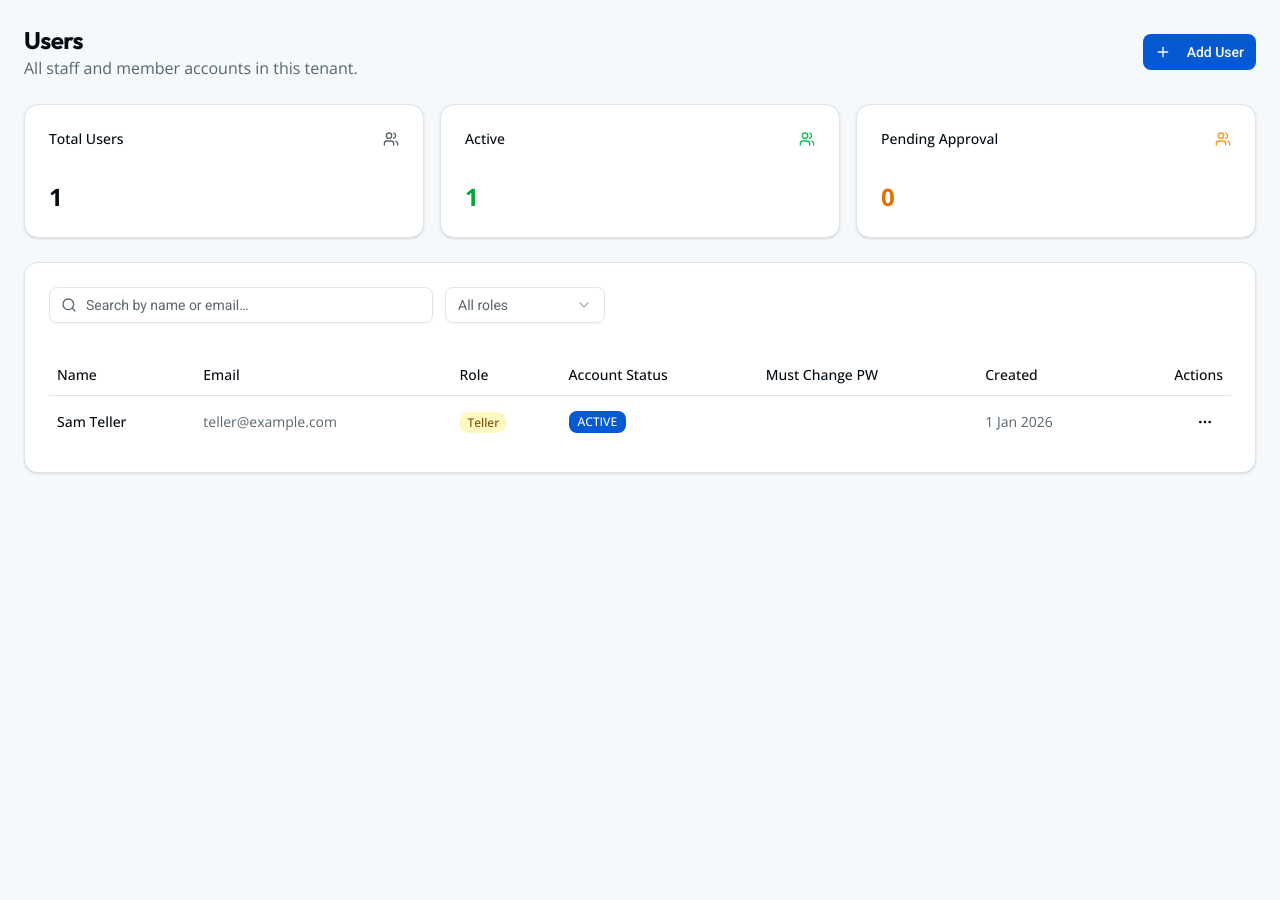
Test: Users page — Reveal Temp Password gating and flow › fetches and displays the temporary password, masked by default, after confirming
The width and height of the screenshot is (1280, 900).
expect the text "Sam Teller" is shown: met, box left=49, top=395, right=195, bottom=448
Press the mouse on the 2nd button at (1205, 422), box left=1187, top=404, right=1223, bottom=440
Click the 2nd button at (1205, 422), box left=1187, top=404, right=1223, bottom=440
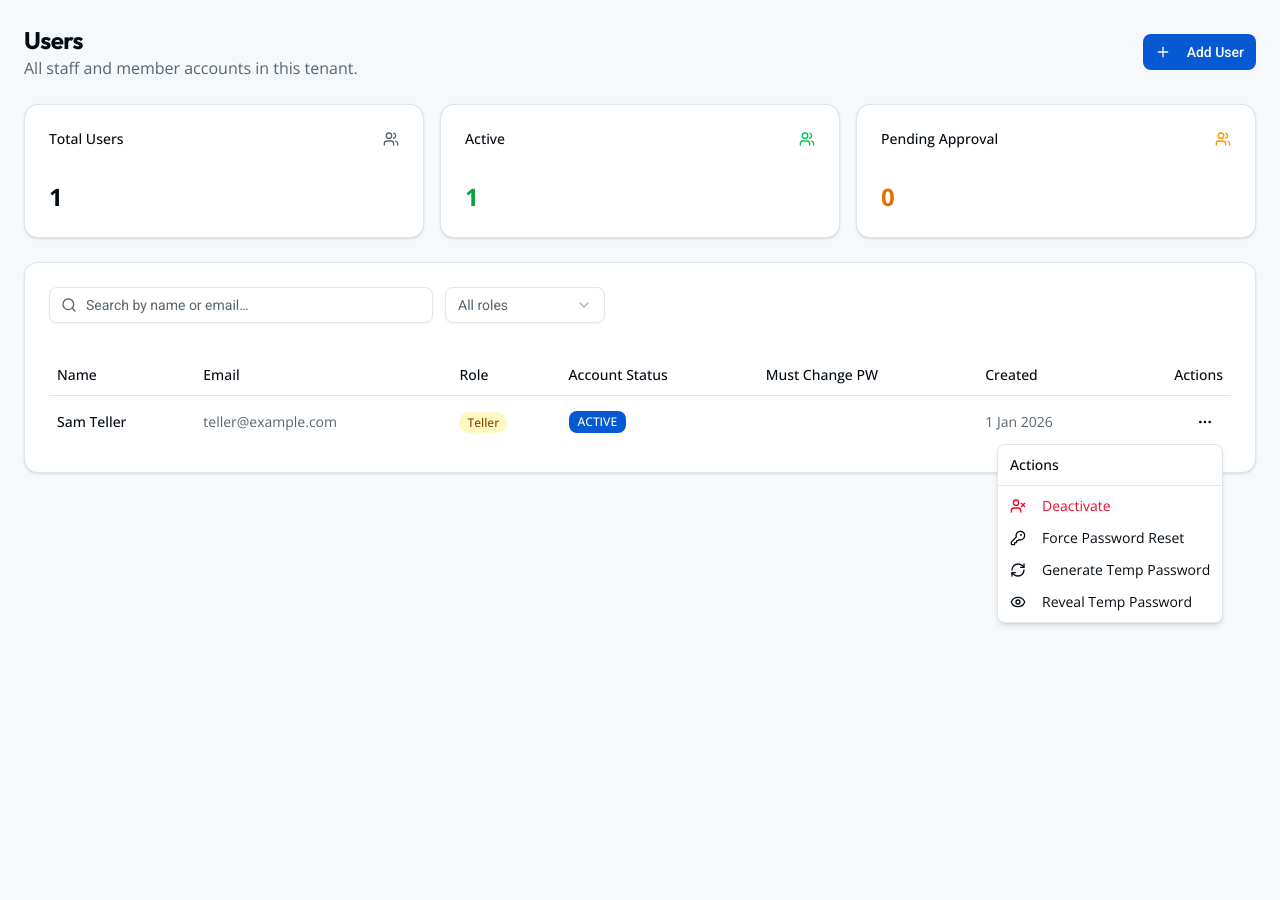
Click the menu item "Reveal Temp Password" at (1101, 602), box left=1010, top=592, right=1192, bottom=611
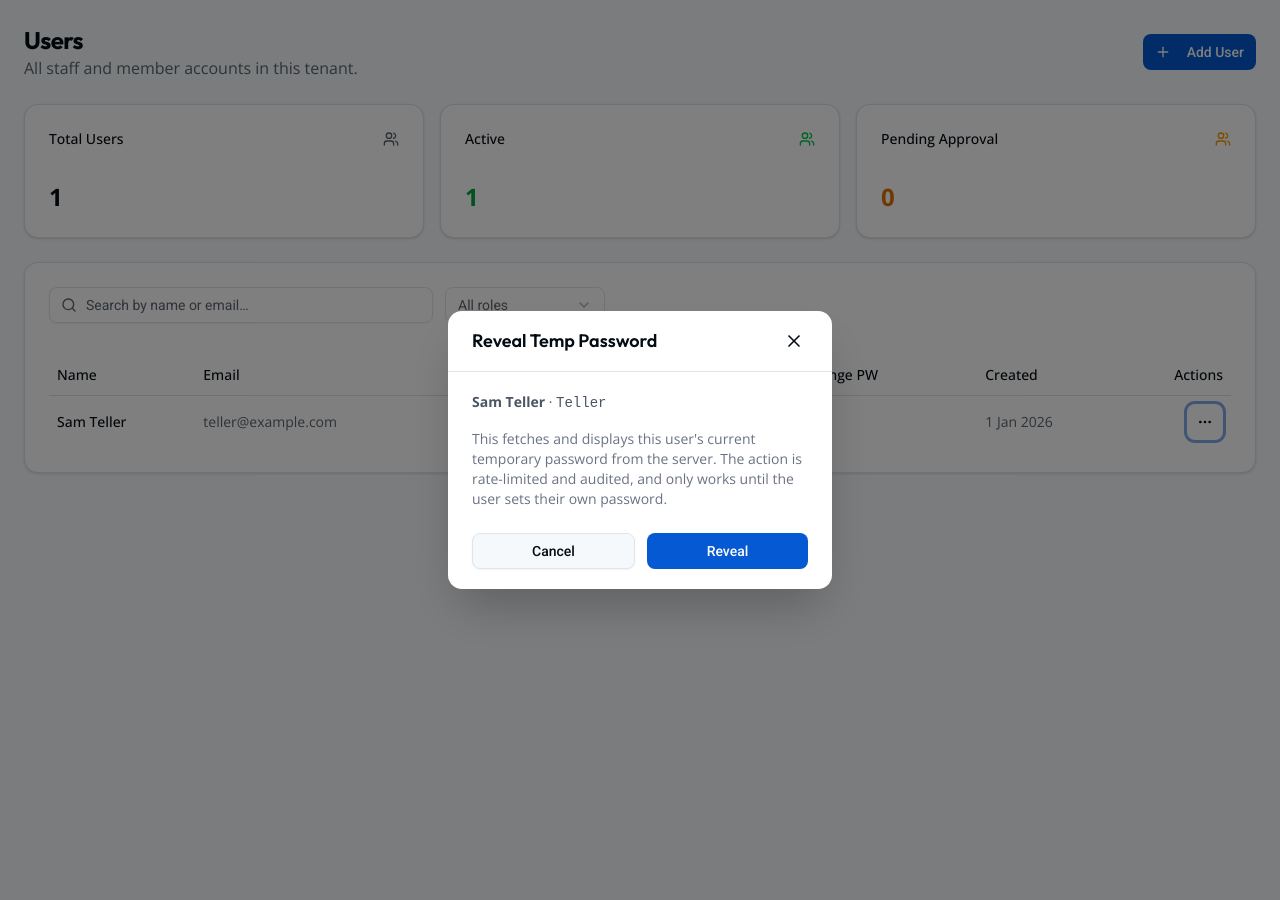
Click the button "Reveal" at (728, 551), box left=647, top=533, right=808, bottom=569
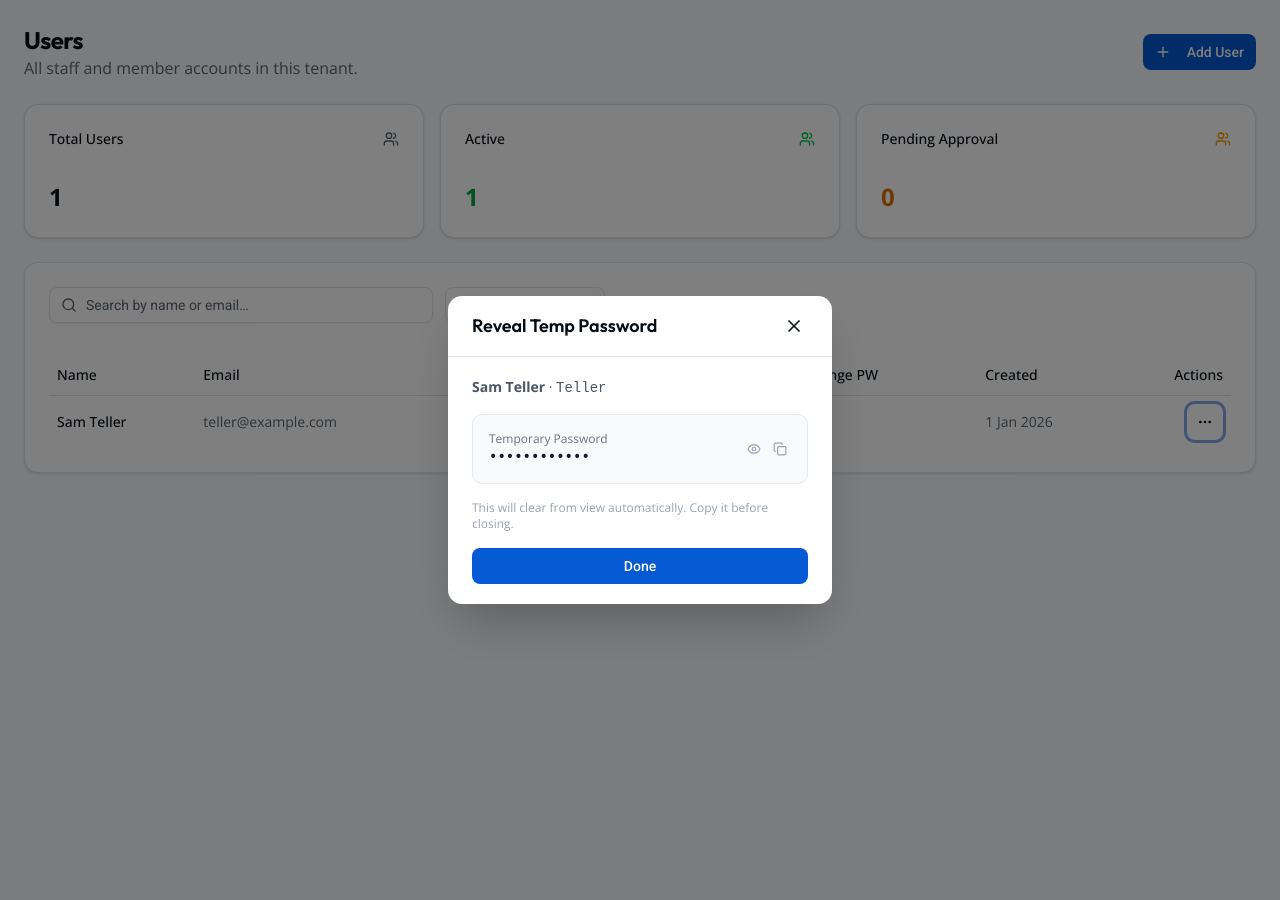
expect the text "DMQgdKAKwX4c" is not shown: met
expect the text "••••••••••••" is shown: met, box left=489, top=449, right=590, bottom=465
Click the button titled "Show" at (754, 449), box left=743, top=438, right=765, bottom=460
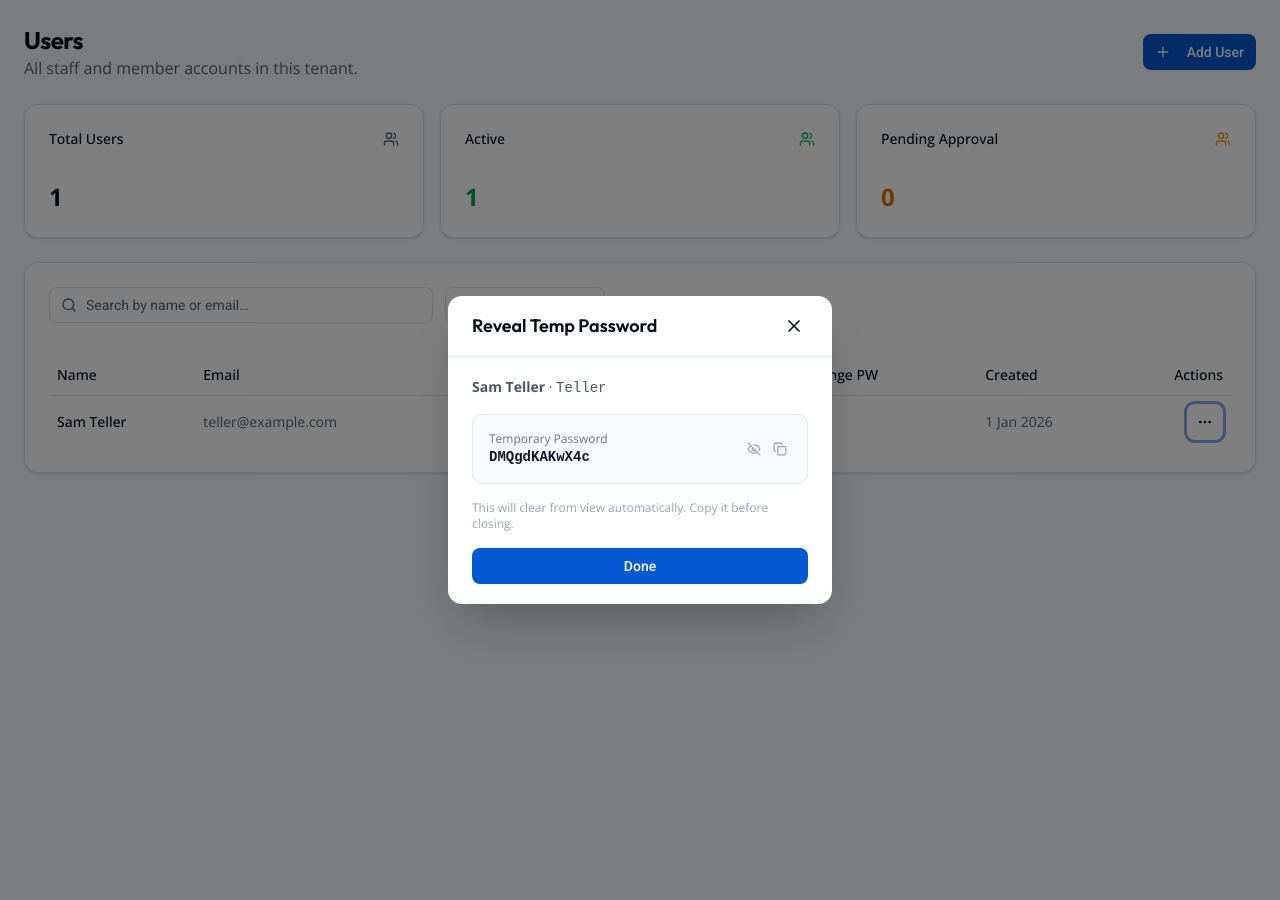
expect the text "DMQgdKAKwX4c" is shown: met, box left=489, top=449, right=590, bottom=465
